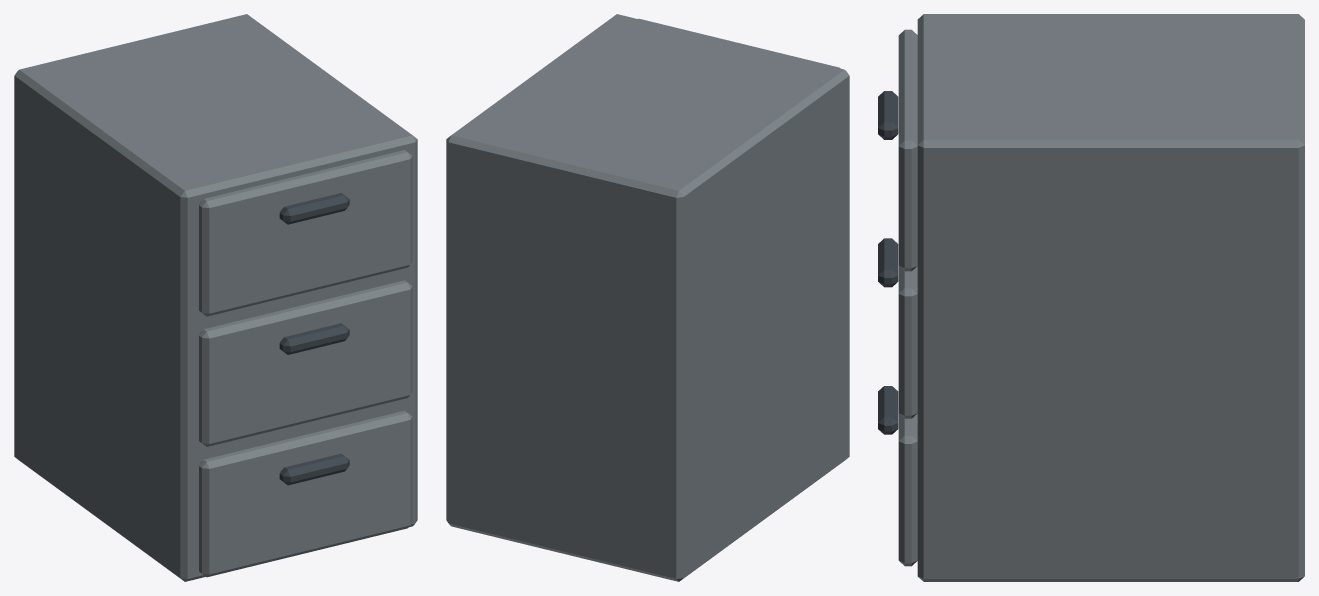
Rendered from UnderDeskPedestal.fbx.
3 renders of one model, left to right at view 1: azimuth 30°, elevation 25°; view 2: azimuth 150°, elevation 25°; view 3: azimuth 270°, elevation 25°, orthographic. The views are drawn at different scales.
Parts seen in each view (by area): view 1: UnderDeskPedestal; view 2: UnderDeskPedestal; view 3: UnderDeskPedestal.
Part boxes in pixels (x1,y1,x2,y2): UnderDeskPedestal: (14, 14, 417, 581); UnderDeskPedestal: (446, 14, 849, 581); UnderDeskPedestal: (878, 14, 1304, 581).
Size of the model in its own units: 40 by 63 by 55.1.
1 material, 1 textured.
